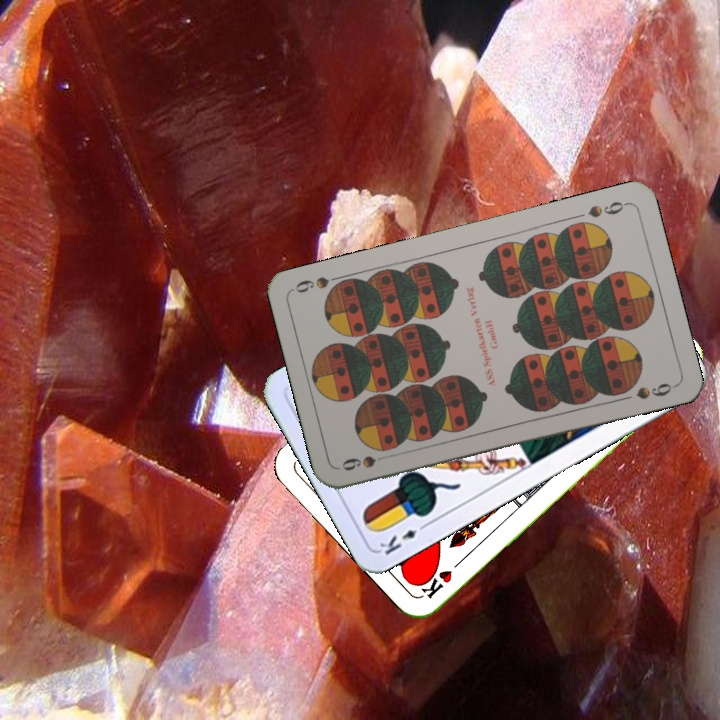EK: (375, 518, 432, 558)
HK: (416, 553, 467, 601)
S9: (584, 197, 631, 221), (337, 451, 379, 474)
